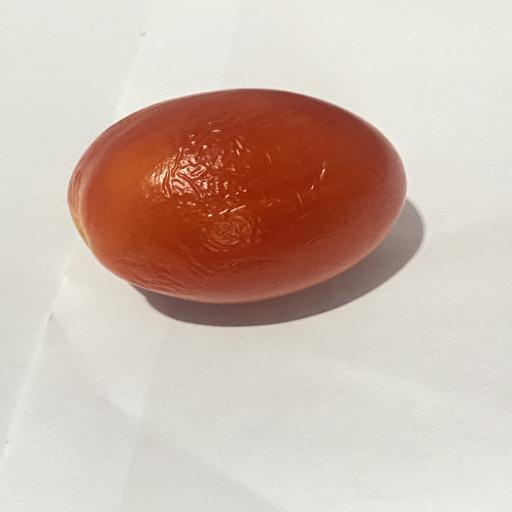ripe: (68, 89, 406, 303)
spoiled: (68, 89, 406, 303)
